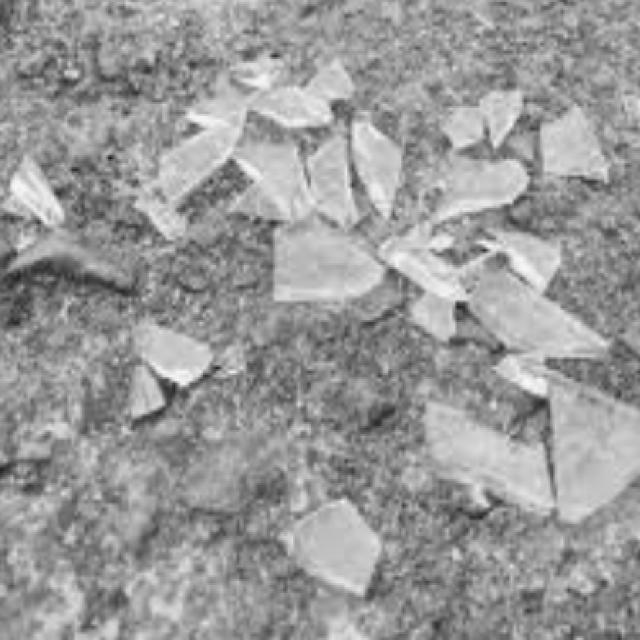PecahanKaca: (139, 49, 638, 526)
